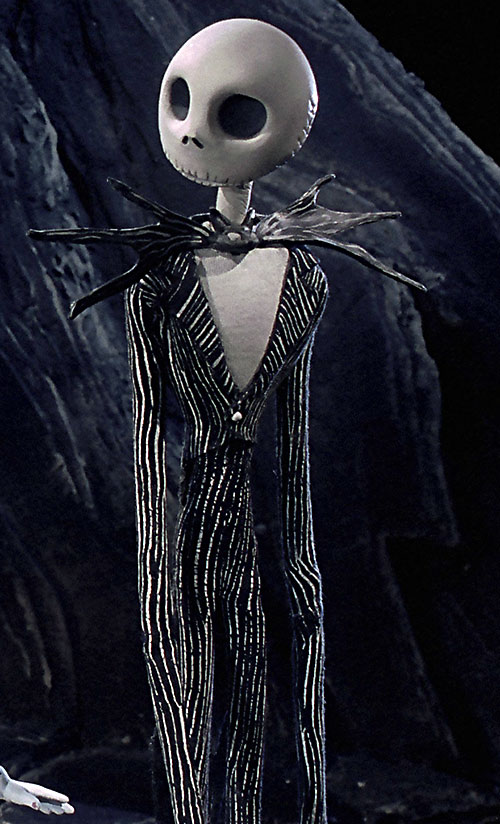Jack Skellington: (23, 17, 431, 824)
